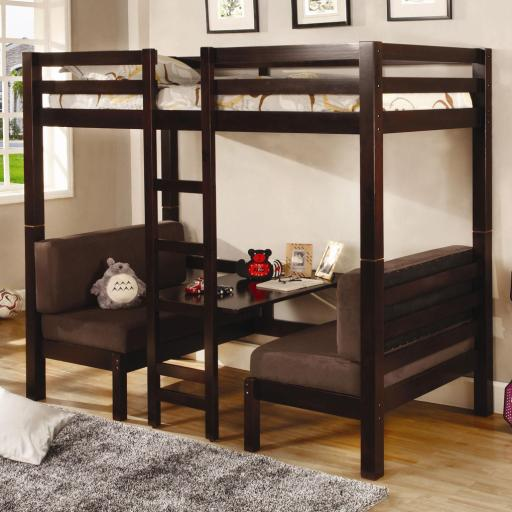bed: (23, 40, 488, 472)
sofa: (246, 245, 480, 477), (32, 221, 203, 423)
